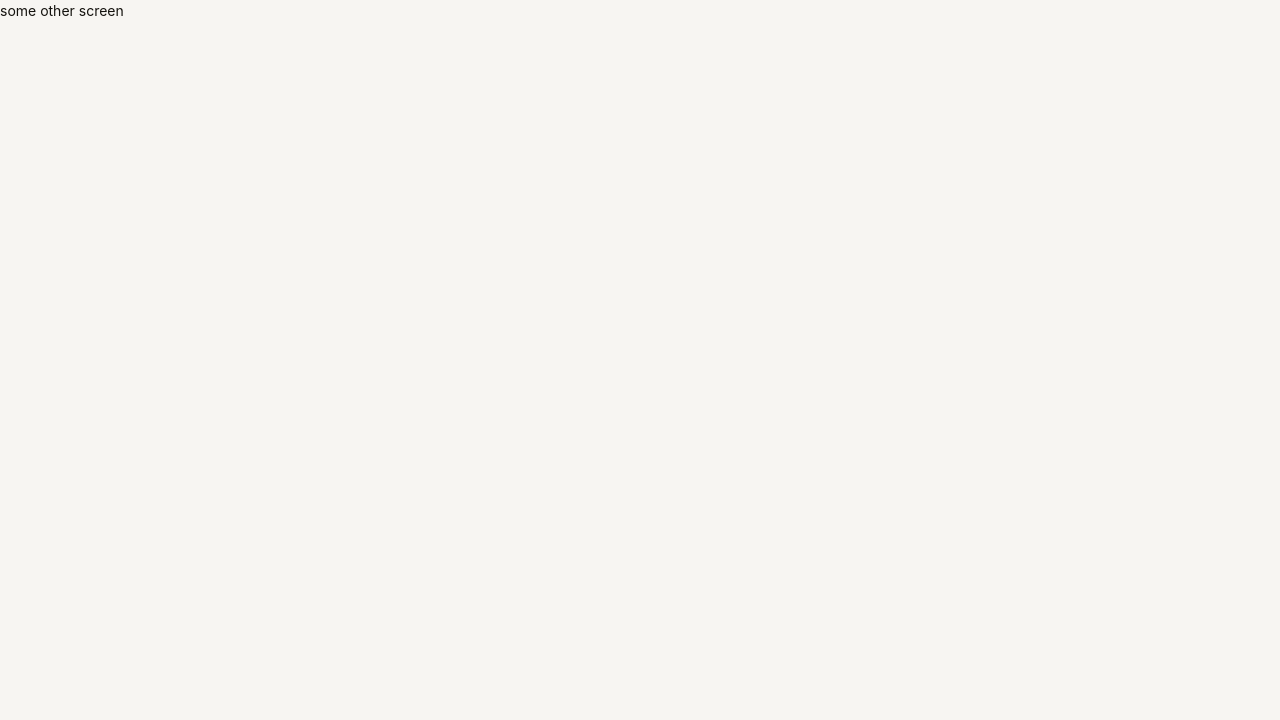
Test case: Shift+N › closes the composer after creating
The image size is (1280, 720).
Press N
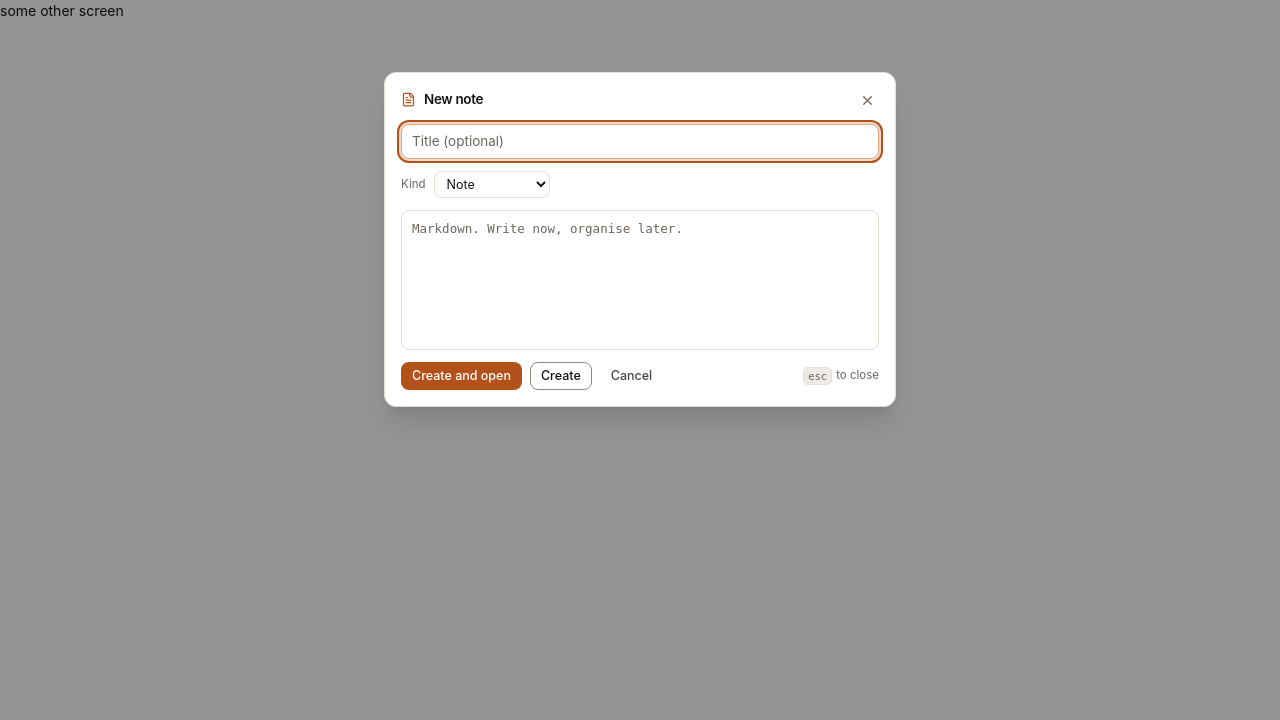
Now the dialog "New note" is shown, box [384, 72, 896, 407]
Click the button "Create": (561, 376) [530, 362, 592, 390]
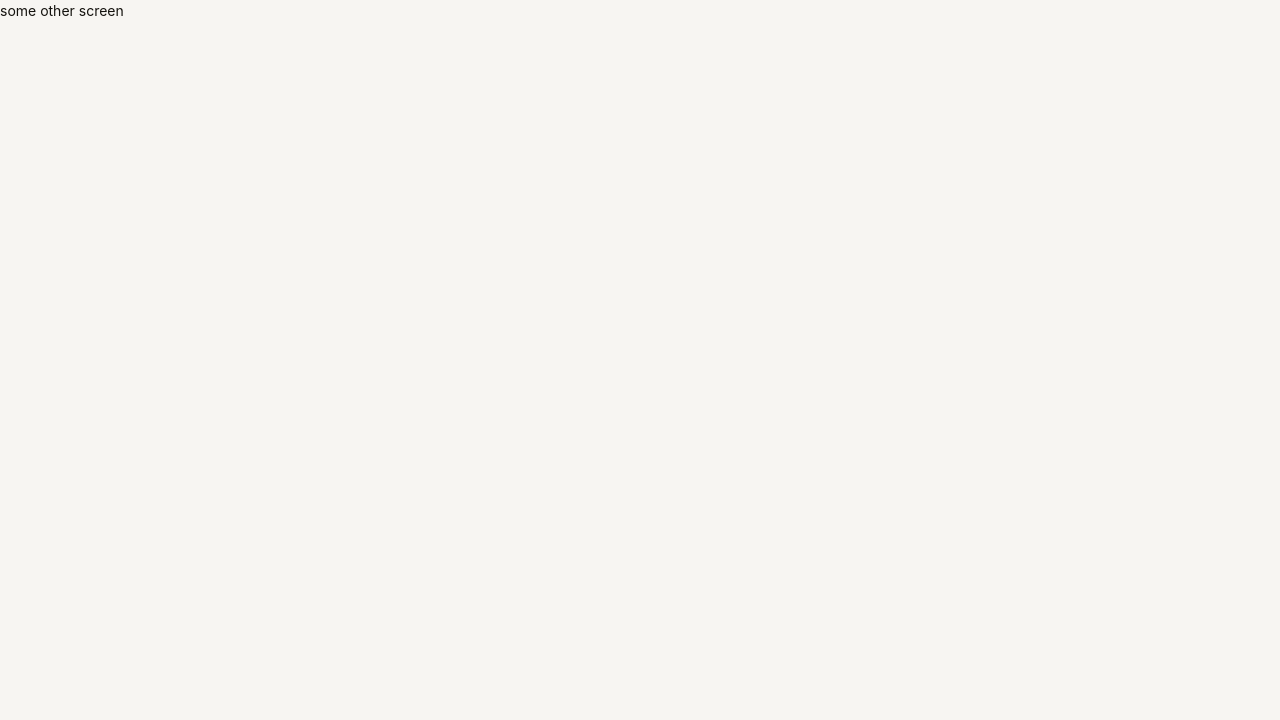
Now the heading "New note" is gone
